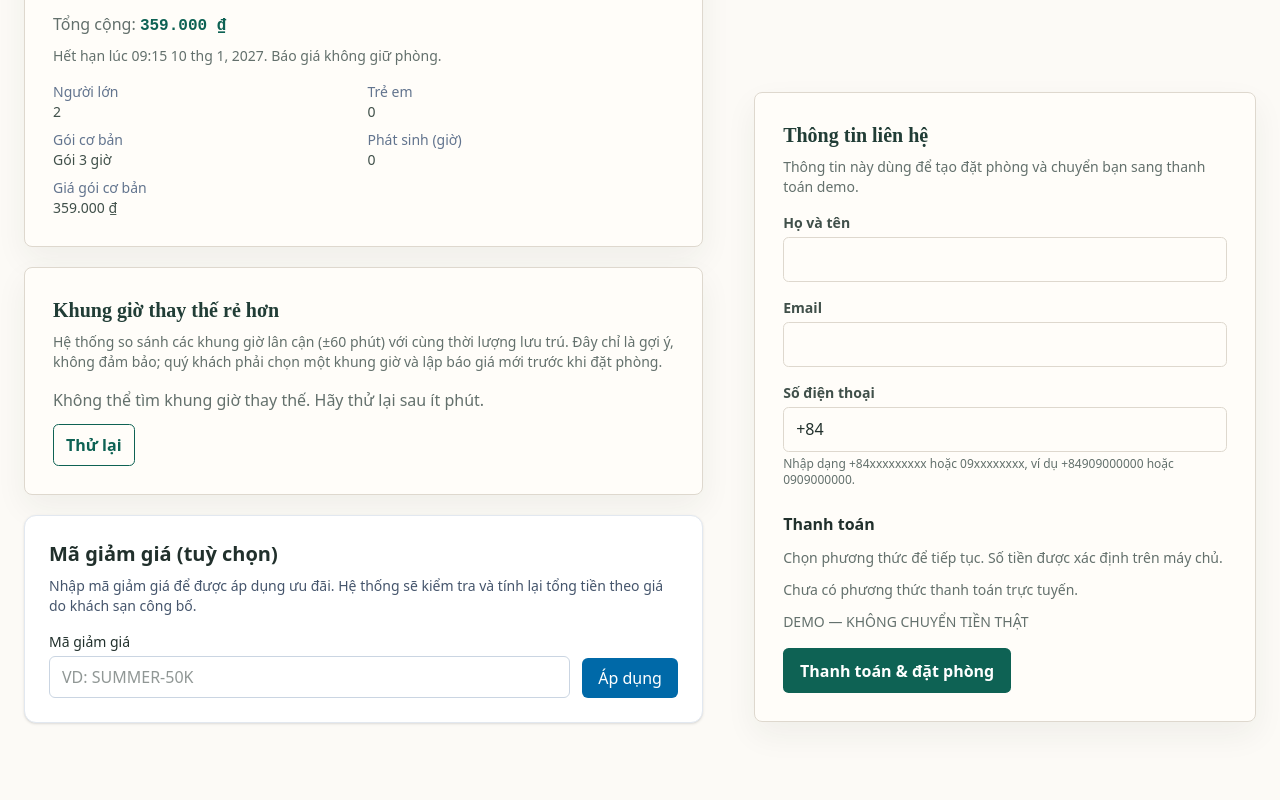
Test case: QuoteView coupon integration › shows a safe Vietnamese error and does not replace the current quote when the coupon is rejected
The image size is (1280, 800).
(page scrolled)
Expected: the form with test id "coupon-input" is shown, [24,515,703,723]
In the field labelled "Mã giảm giá": (310, 677) [49,656,570,698], type "BOGUS"
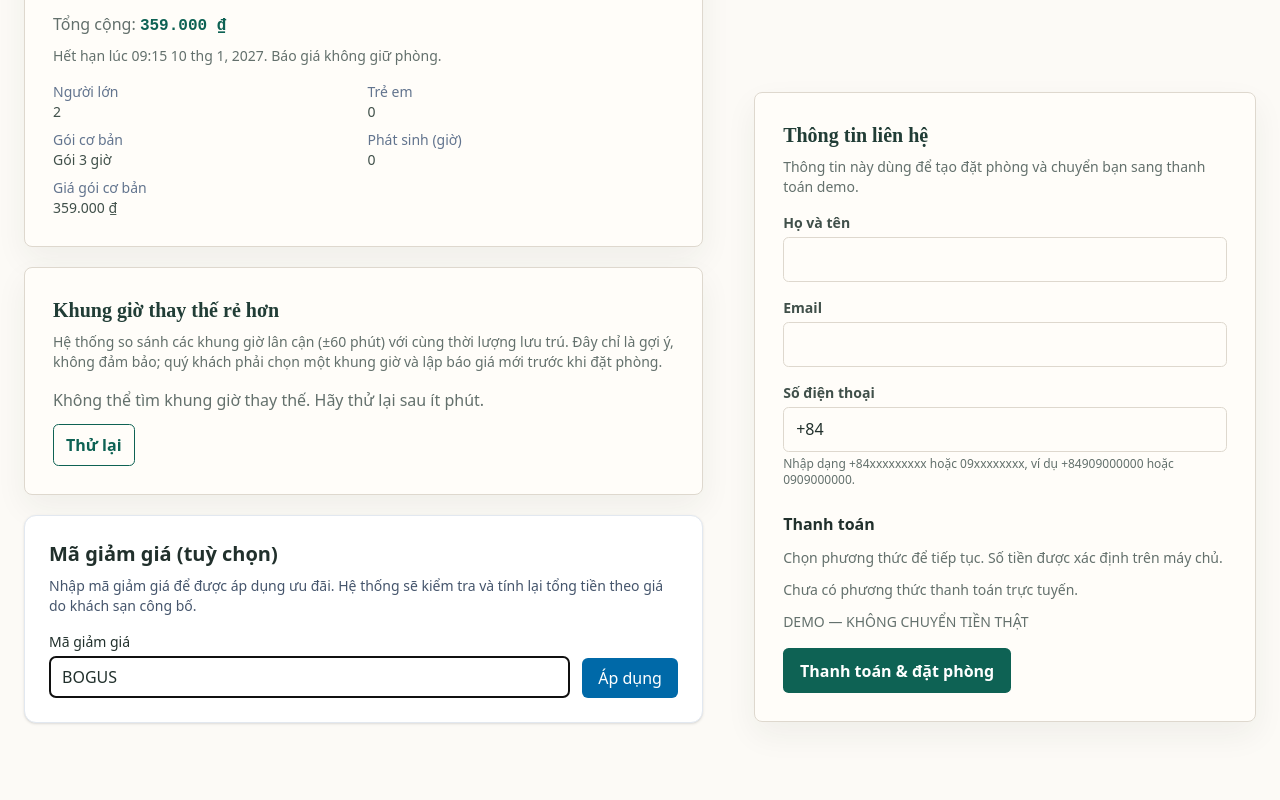
Click the button "Áp dụng": click(630, 678) [582,658,678,698]
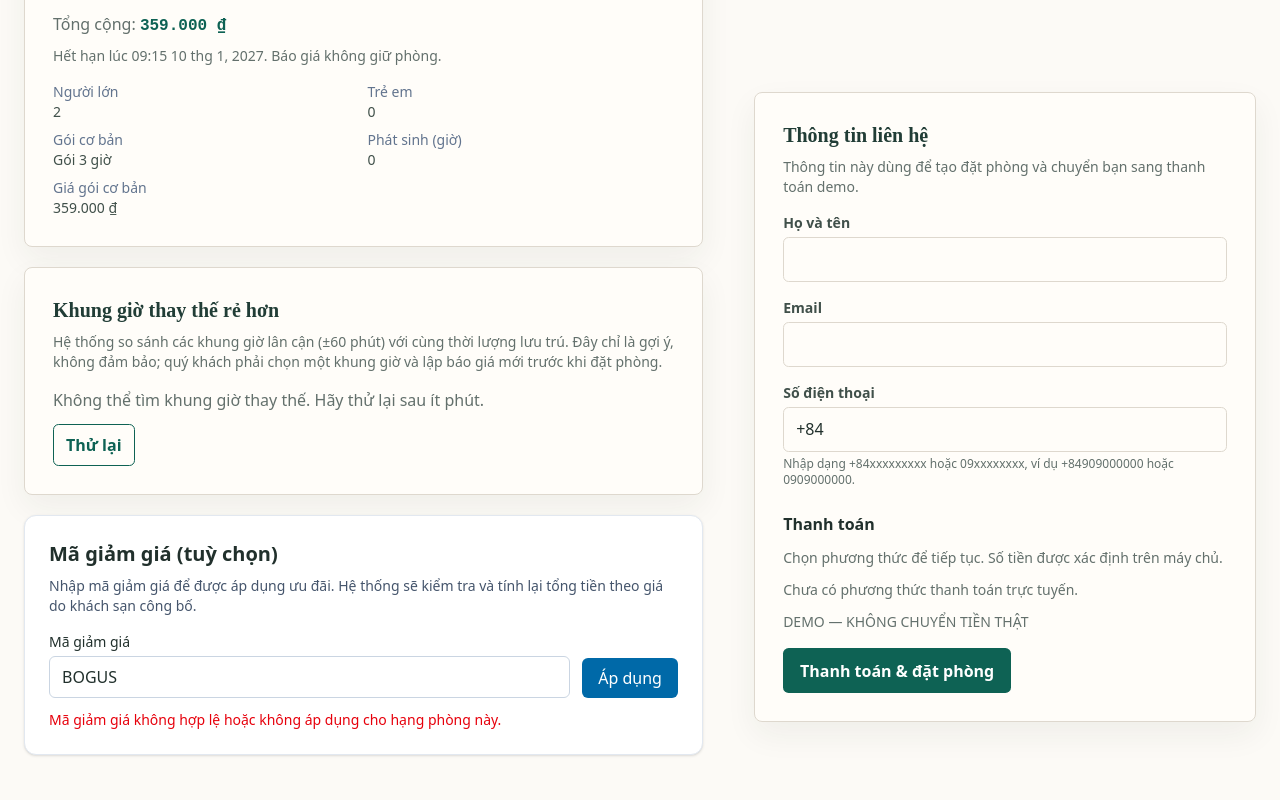
Expected: the form with test id "coupon-input" is shown, [24,515,703,755]
Now the message with test id "coupon-error" shows "Mã giảm giá không hợp lệ", box [49,710,501,729]
